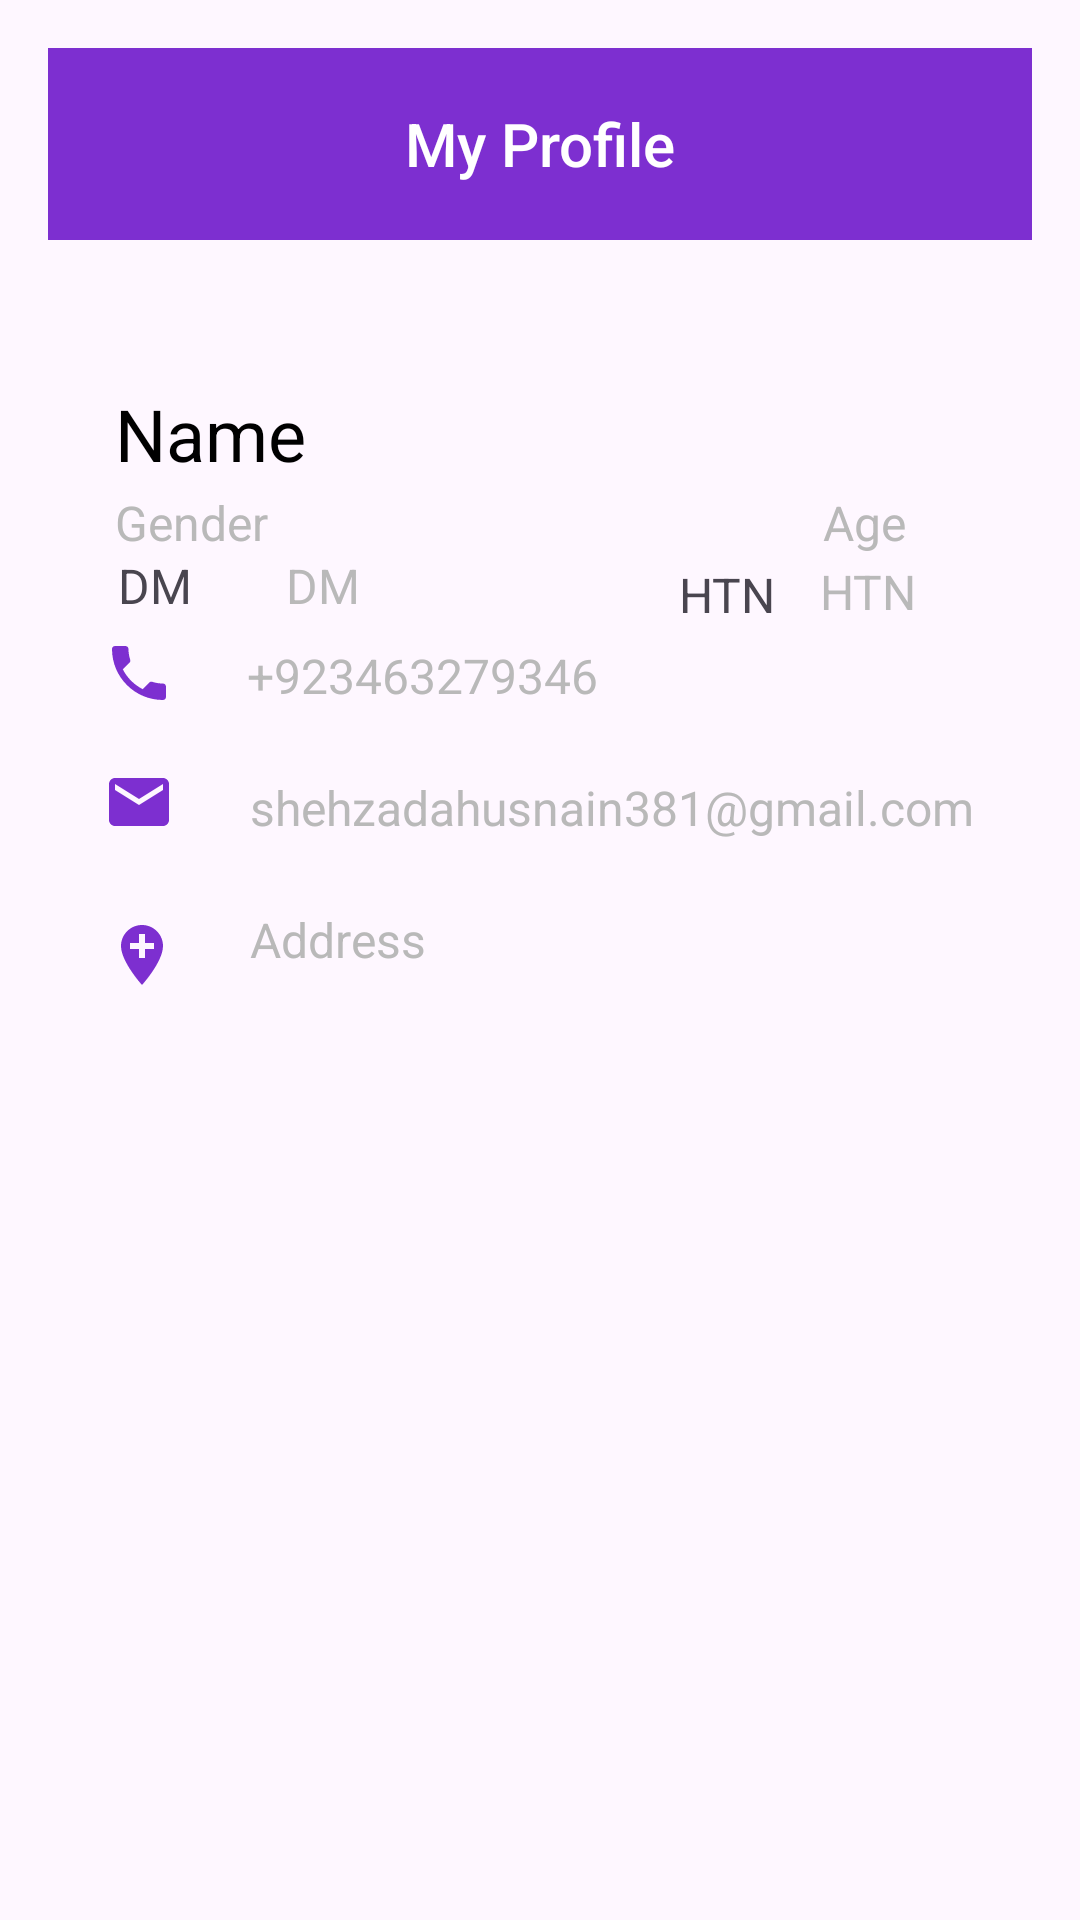

Where icons sit on this 1080 × 1920 app screen, as (x1, y1, x2, y2):
add location: (121, 925, 163, 985)
call: (112, 646, 166, 700)
email: (109, 778, 169, 826)
